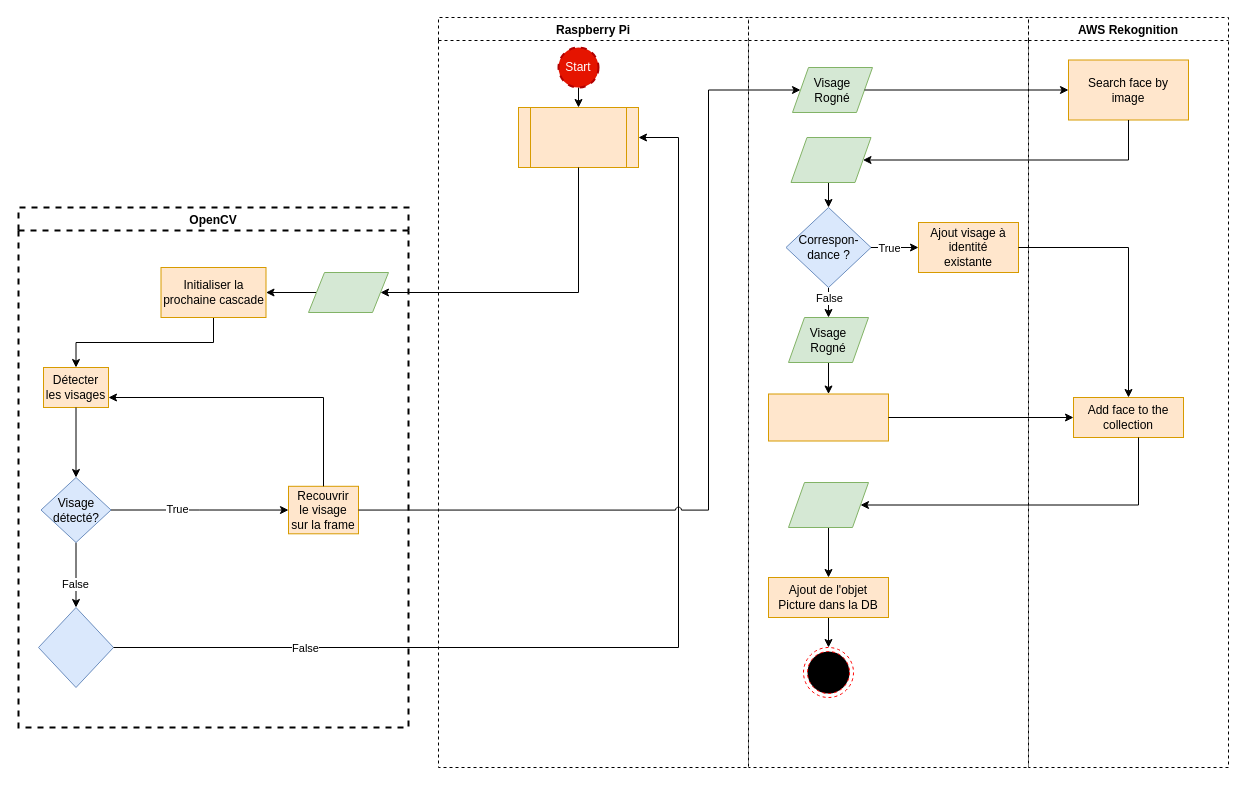
This 1246x785 diagram has some shape labels left out. The shapes that lost their labels are listed below. From the top down, each one's box as (x1, y1, x2, y2) in pixels, then its label:
(518, 106, 638, 168): La PiCamera prend des photos
(790, 136, 871, 182): Face match
(308, 272, 388, 312): Photo
(748, 16, 1028, 768): WiFace API backend
(768, 393, 888, 441): Création d'une nouvelle identité dans la DB
(788, 482, 868, 528): Face details
(38, 606, 114, 688): Cascade restante?
